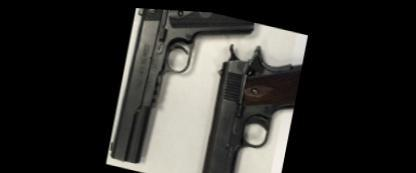pistol: (104, 4, 258, 171), (193, 26, 306, 171)
